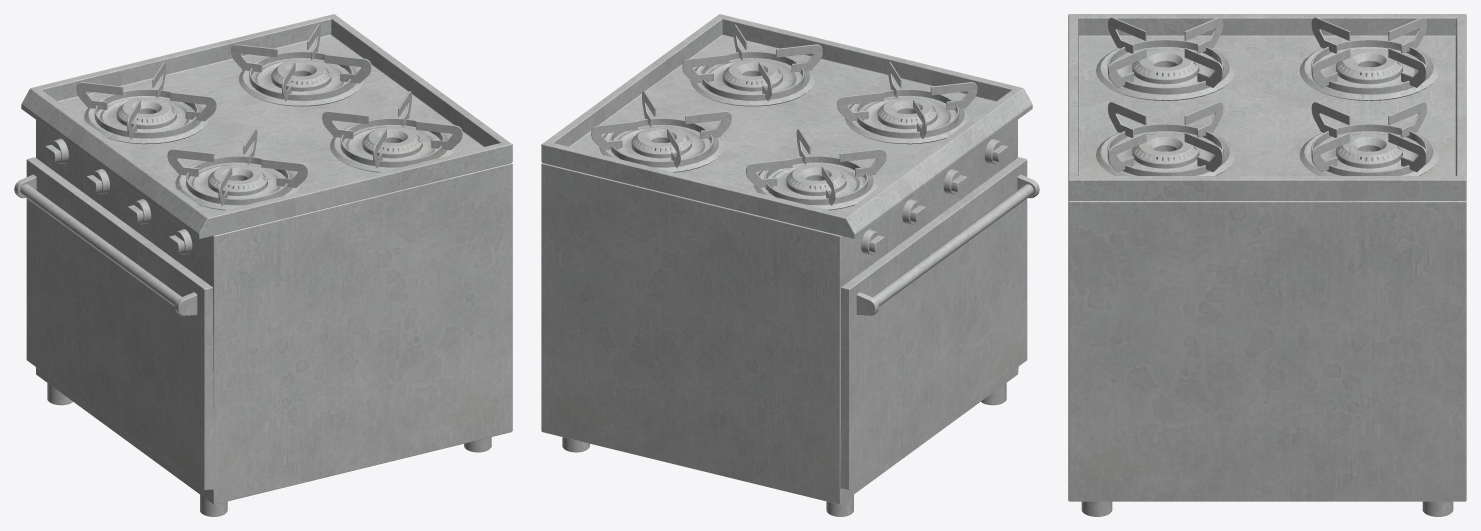
Rendered from SM_GasOven_Lower_01a.fbx.
The picture shows the model from 3 angles, left to right: view 1: azimuth 30°, elevation 25°; view 2: azimuth 150°, elevation 25°; view 3: azimuth 270°, elevation 25°; orthographic projection. The views are drawn at different scales.
Parts seen in each view (by area): view 1: SM_GasOven_Lower_01a_LOD0; view 2: SM_GasOven_Lower_01a_LOD0; view 3: SM_GasOven_Lower_01a_LOD0.
Boxes of the visible parts, x1,y1,x2,y2 form: SM_GasOven_Lower_01a_LOD0: (14,14,512,516); SM_GasOven_Lower_01a_LOD0: (541,14,1039,516); SM_GasOven_Lower_01a_LOD0: (1068,14,1466,516).
Bounding box in the file's own units: 106 × 100 × 98.9.
